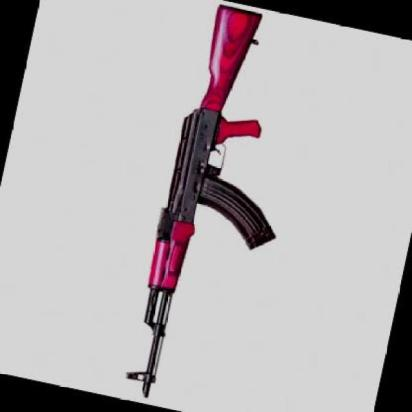Gun: (98, 4, 304, 400)
